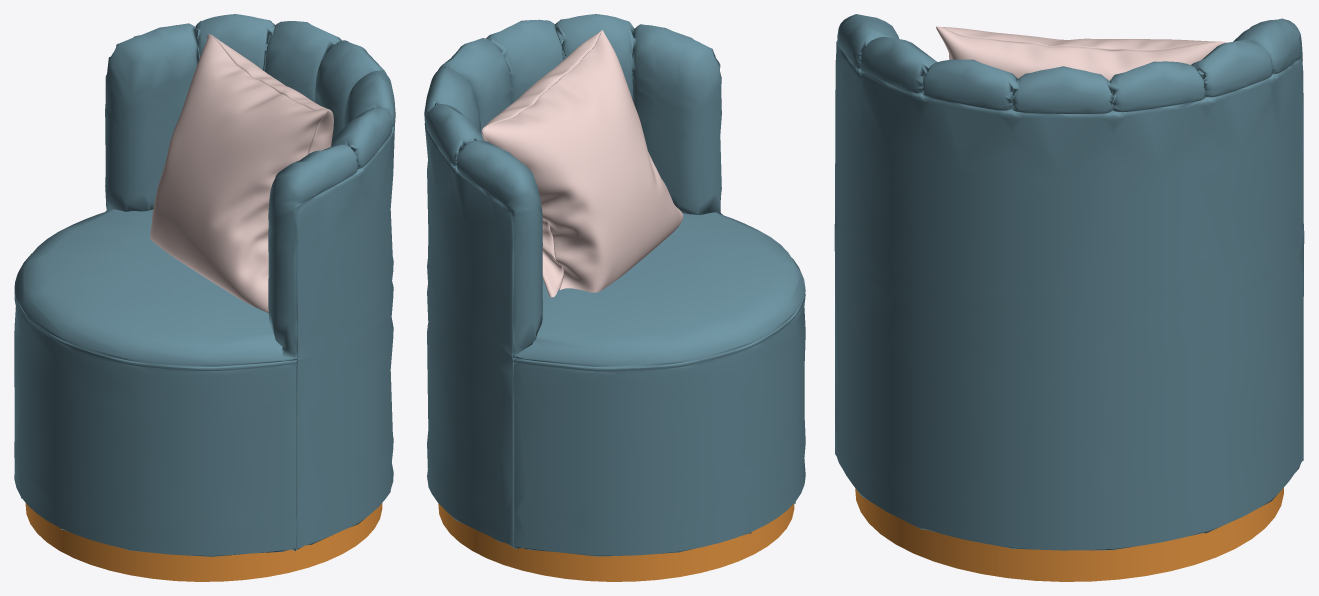
3 views of the same model, side by side, from view 1: azimuth 30°, elevation 25°; view 2: azimuth 150°, elevation 25°; view 3: azimuth 270°, elevation 25° (orthographic). The views are drawn at different scales.
Visible parts, largest first — view 1: PBteen_Benefit_Gorgeous_Vanity_Chair_004, Group2146526823, PBteen_Benefit_Gorgeous_Vanity_Chair_005; view 2: PBteen_Benefit_Gorgeous_Vanity_Chair_004, Group2146526823, PBteen_Benefit_Gorgeous_Vanity_Chair_005; view 3: PBteen_Benefit_Gorgeous_Vanity_Chair_004, PBteen_Benefit_Gorgeous_Vanity_Chair_005, Group2146526823.
Part boxes in pixels (x1,y1,x2,y2): PBteen_Benefit_Gorgeous_Vanity_Chair_004: [14, 14, 395, 556]; Group2146526823: [150, 34, 333, 312]; PBteen_Benefit_Gorgeous_Vanity_Chair_005: [25, 503, 382, 581]; PBteen_Benefit_Gorgeous_Vanity_Chair_004: [424, 14, 805, 556]; Group2146526823: [481, 30, 683, 297]; PBteen_Benefit_Gorgeous_Vanity_Chair_005: [438, 503, 794, 581]; PBteen_Benefit_Gorgeous_Vanity_Chair_004: [834, 14, 1304, 550]; PBteen_Benefit_Gorgeous_Vanity_Chair_005: [855, 488, 1283, 581]; Group2146526823: [936, 26, 1226, 80].
Bounding box in the file's own units: 23.79 × 29.32 × 24.42.
